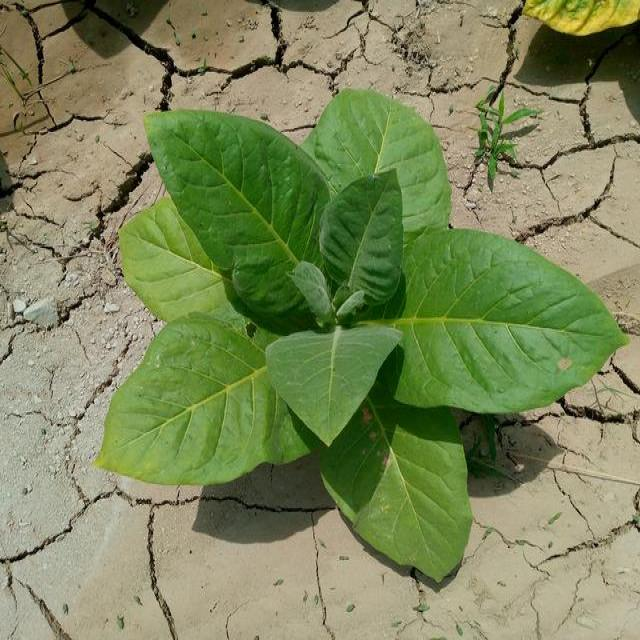crop: (93, 80, 614, 588)
